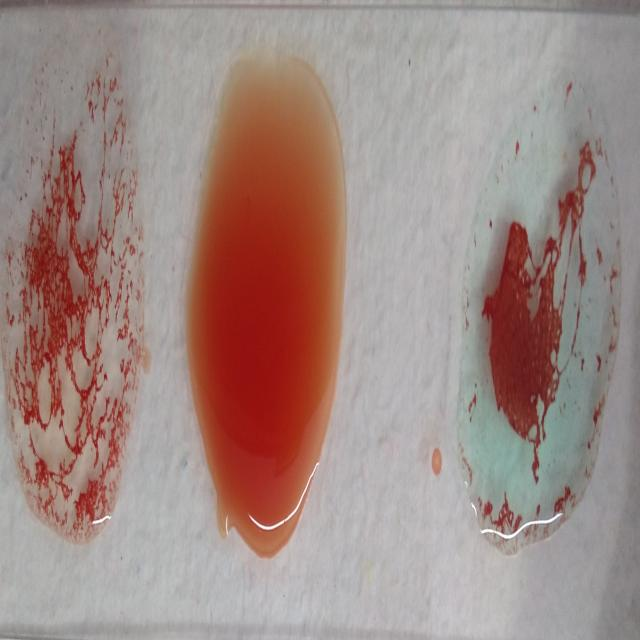A: (459, 84, 613, 544)
D: (2, 57, 144, 547)
